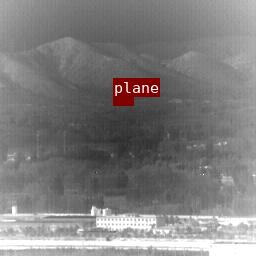plane: (113, 97, 133, 105)
